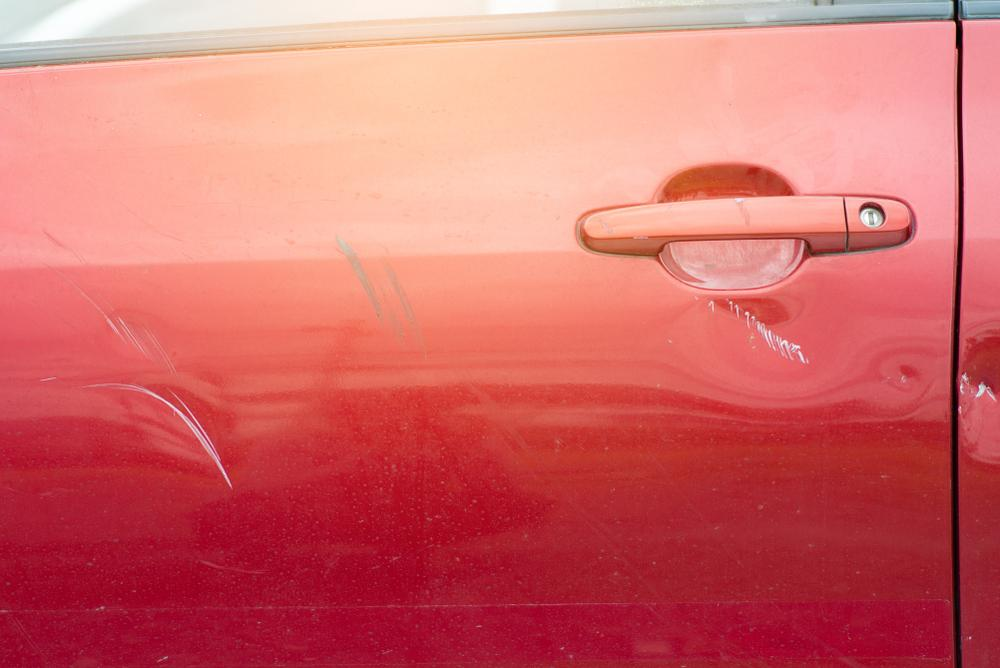dent: (708, 269, 864, 377), (960, 327, 999, 463), (878, 359, 924, 397)
scratch: (75, 275, 251, 494)
